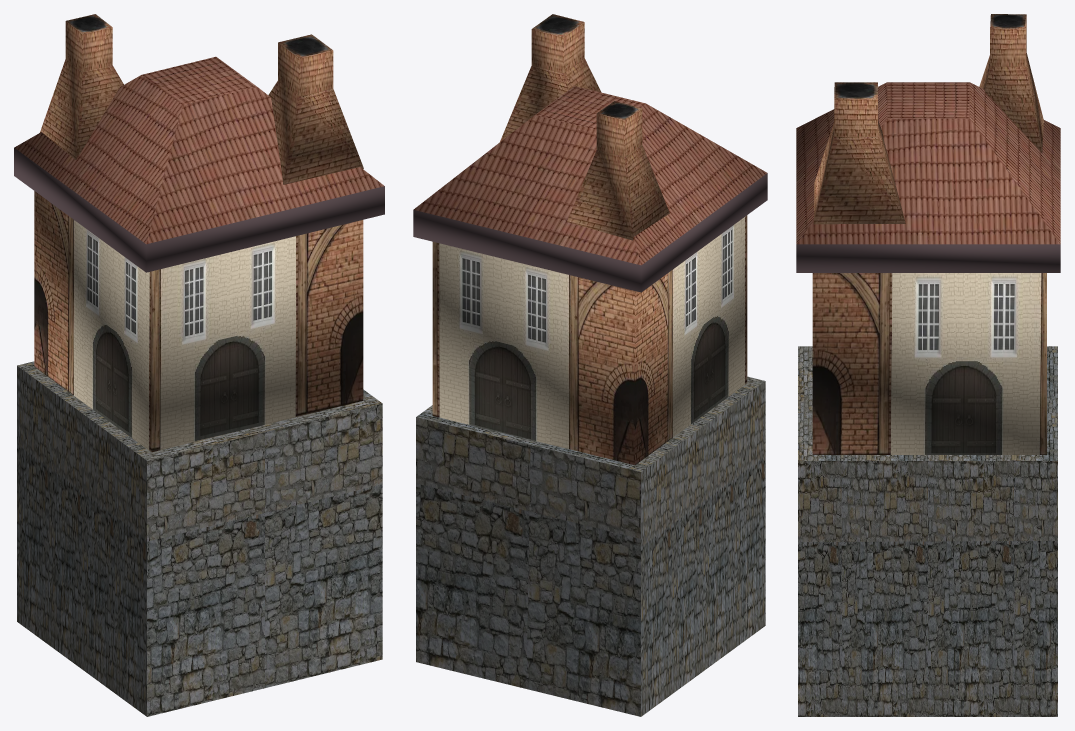
File: tileworks.glb
3 renders of one model, left to right at view 1: azimuth 30°, elevation 25°; view 2: azimuth 150°, elevation 25°; view 3: azimuth 270°, elevation 25°, orthographic. The views are drawn at different scales.
Parts seen in each view (by area): view 1: Cube.002, Cube, Cube.001, Cube.004; view 2: Cube.002, Cube, Cube.001, Cube.004; view 3: Cube.002, Cube, Cube.001, Cube.004.
Part boxes in pixels (x1,y1,x2,y2): Cube.002: [17, 361, 382, 716]; Cube: [34, 191, 363, 452]; Cube.001: [14, 56, 384, 272]; Cube.004: [40, 14, 363, 184]; Cube.002: [416, 376, 765, 716]; Cube: [432, 215, 747, 464]; Cube.001: [413, 86, 767, 292]; Cube.004: [500, 14, 669, 240]; Cube.002: [798, 346, 1057, 716]; Cube: [812, 273, 1046, 454]; Cube.001: [796, 82, 1060, 272]; Cube.004: [813, 14, 1043, 224].
Size of the model in its own units: 1.95 by 4.72 by 1.87.
Materials: 6 (5 with a texture image).
